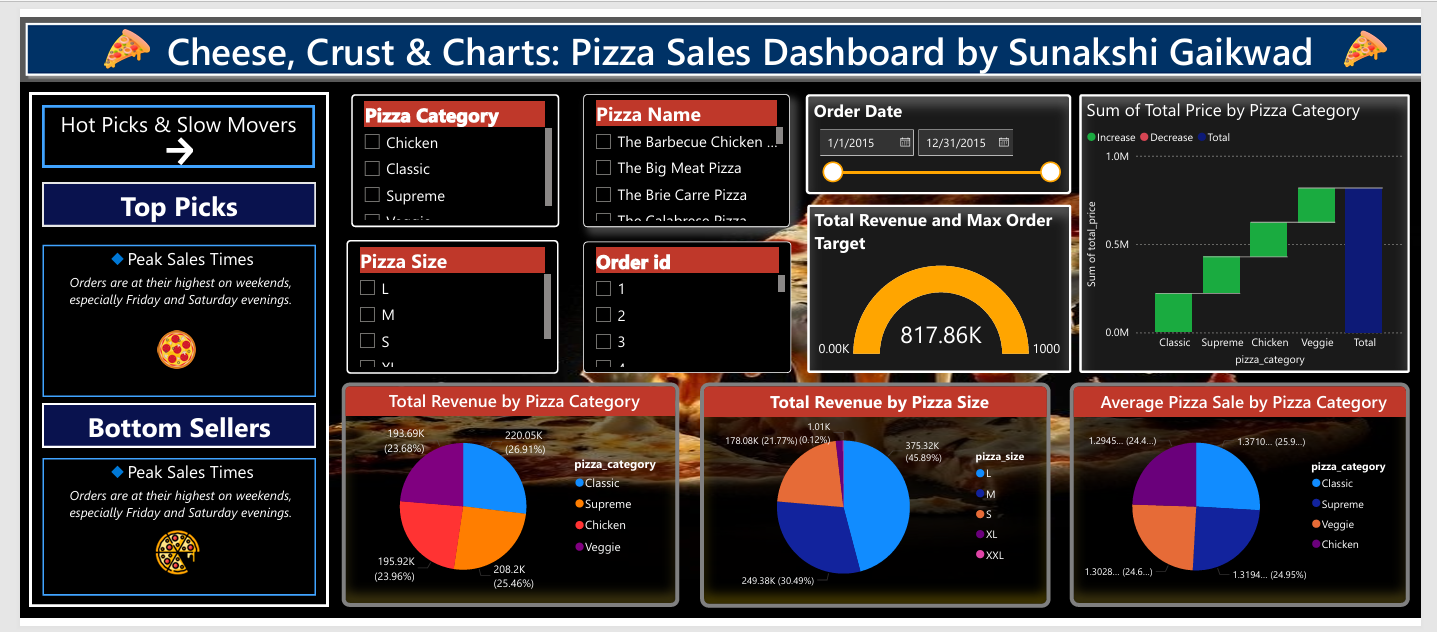

The dashboard page shown, as its layout file describes it:
{"tool":"powerbi","page":{"name":"My Internship Project","canvas":[1750,750],"ordinal":0},"visuals":[{"type":"shape","box":[0,0,1800,80],"z":0},{"type":"pieChart","title":"Total Revenue by Pizza Size","fields":{"Category":["pizza_sales.pizza_size"],"Y":["pizza_sales.Total Review AA"]},"box":[849.6,457.1,438.3,281.3],"z":0,"group":"g2"},{"type":"group","id":"g1","title":"Group 1","box":[402,94,556,348],"z":1000},{"type":"slicer","fields":{"Values":["pizza_sales.pizza_category"]},"box":[407,94,260,165.7],"z":1000,"group":"g1"},{"type":"pieChart","title":"Total Revenue by Pizza Category","fields":{"Category":["pizza_sales.pizza_category"],"Y":["pizza_sales.Total Revenue AA"]},"box":[401.7,456.7,421.6,279.5],"z":1000,"group":"g2"},{"type":"shape","box":[11.7,93.3,373.3,641.7],"z":2000,"group":"g3"},{"type":"group","id":"g2","title":"Group 1","box":[401.7,456.7,1335,281.7],"z":2000},{"type":"pieChart","title":"Average Pizza Sale by Pizza Category","fields":{"Category":["pizza_sales.pizza_category"],"Y":["pizza_sales.Average Pizza Sale"]},"box":[1311.9,457.3,424.8,280],"z":2000,"group":"g2"},{"type":"image","box":[1640.3,8.1,82.3,62.9],"z":3000},{"type":"group","id":"g3","title":"Group 3","box":[11.7,93.3,373.3,641.7],"z":4000},{"type":"shape","box":[26.7,205,341.7,55],"z":4000,"group":"g3"},{"type":"slicer","fields":{"Values":["pizza_sales.order_id"]},"box":[697,278.1,260,164.2],"z":4000,"group":"g1"},{"type":"image","box":[71.7,5,125,66.7],"z":5000},{"type":"actionButton","box":[27.5,109.6,340.3,77.4],"z":5000,"group":"g3"},{"type":"textbox","title":" 🔹Peak Sales Times","box":[26.7,283.3,341.7,190],"z":6000,"group":"g3"},{"type":"slicer","title":"Order Date","fields":{"Values":["pizza_sales.order_date"]},"box":[982,92,331.7,125],"z":7000,"group":"g4"},{"type":"slicer","fields":{"Values":["pizza_sales.pizza_name"]},"box":[697,94,258.3,165.7],"z":7000,"group":"g1"},{"type":"shape","box":[28.4,481.6,341.7,55],"z":7000,"group":"g3"},{"type":"gauge","title":"Total Revenue and Max Order Target","fields":{"Y":["pizza_sales.Total Revenue AA"],"MaxValue":["pizza_sales.Max_Order_Target"]},"box":[983.7,230.3,330,210],"z":8000,"group":"g4"},{"type":"slicer","fields":{"Values":["pizza_sales.pizza_size"]},"box":[402,275.1,265,167.3],"z":8000,"group":"g1"},{"type":"waterfallChart","title":"Sum of Total Price by Pizza Category","fields":{"Y":["Sum(pizza_sales.total_price)"],"Category":["pizza_sales.pizza_category"]},"box":[1323.7,92,413.3,348.3],"z":9000,"group":"g4"},{"type":"textbox","title":" 🔹Peak Sales Times","box":[26.7,548.3,341.7,171.7],"z":9000,"group":"g3"},{"type":"group","id":"g4","title":"Group 2","box":[982,92,754,350],"z":9001},{"type":"image","box":[106.5,633.8,182.3,67.7],"z":10000,"group":"g3"},{"type":"image","box":[164.5,385.5,64.5,58.1],"z":11000,"group":"g3"}]}

Visuals, with their boxes in screenshot pixels (x1, y1, x2, y2), scaled from the page's 1750x750 canvas onto the 1437x632 screenshot:
shape: select_region(0, 0, 1436, 67)
"Total Revenue by Pizza Size" pieChart: select_region(698, 385, 1058, 622)
"Group 1" group: select_region(330, 79, 787, 372)
slicer - pizza_sales.pizza_category: select_region(334, 79, 548, 219)
"Total Revenue by Pizza Category" pieChart: select_region(330, 385, 676, 620)
shape: select_region(10, 79, 316, 619)
"Group 1" group: select_region(330, 385, 1426, 622)
"Average Pizza Sale by Pizza Category" pieChart: select_region(1077, 385, 1426, 621)
image: select_region(1347, 7, 1415, 60)
"Group 3" group: select_region(10, 79, 316, 619)
shape: select_region(22, 173, 303, 219)
slicer - pizza_sales.order_id: select_region(572, 234, 786, 373)
image: select_region(59, 4, 162, 60)
actionButton: select_region(23, 92, 302, 158)
" 🔹Peak Sales Times" textbox: select_region(22, 239, 303, 399)
"Order Date" slicer: select_region(806, 78, 1079, 183)
slicer - pizza_sales.pizza_name: select_region(572, 79, 784, 219)
shape: select_region(23, 406, 304, 452)
"Total Revenue and Max Order Target" gauge: select_region(808, 194, 1079, 371)
slicer - pizza_sales.pizza_size: select_region(330, 232, 548, 373)
"Sum of Total Price by Pizza Category" waterfallChart: select_region(1087, 78, 1426, 371)
" 🔹Peak Sales Times" textbox: select_region(22, 462, 303, 607)
"Group 2" group: select_region(806, 78, 1426, 372)
image: select_region(87, 534, 237, 591)
image: select_region(135, 325, 188, 374)
